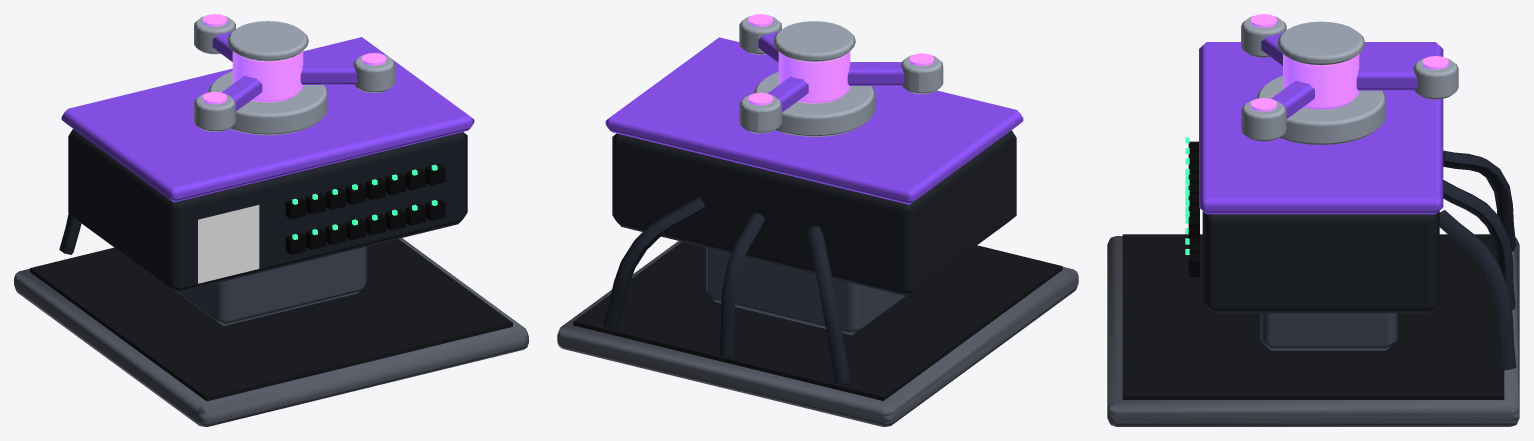
The model's file is alb.glb.
The picture shows the model from 3 angles, left to right: view 1: azimuth 30°, elevation 25°; view 2: azimuth 150°, elevation 25°; view 3: azimuth 270°, elevation 25°; orthographic projection. The views are drawn at different scales.
Parts seen in each view (by area): view 1: body.rubber, body.accent, body.bezel, body.concrete, body.steel, spin_hub.steel_light, body.vent, body.badge, body.steel_light, spin_hub.accent_glow, spin_hub.accent, body.led (+1 smaller); view 2: body.bezel, body.rubber, body.accent, body.concrete, body.steel, body.cable, spin_hub.steel_light, body.steel_light, spin_hub.accent_glow, spin_hub.accent; view 3: body.rubber, body.accent, body.bezel, body.concrete, body.cable, spin_hub.steel_light, body.steel, body.steel_light, spin_hub.accent_glow, spin_hub.accent, body.vent, body.led.
Part boxes in pixels (x1,y1,x2,y2): body.rubber: (30, 239, 512, 401); body.accent: (61, 37, 474, 202); body.bezel: (68, 129, 467, 292); body.concrete: (14, 238, 528, 426); body.steel: (178, 246, 367, 325); spin_hub.steel_light: (194, 15, 394, 131); body.vent: (285, 163, 445, 254); body.badge: (198, 205, 259, 283); body.steel_light: (208, 71, 327, 135); spin_hub.accent_glow: (202, 14, 386, 104); spin_hub.accent: (212, 31, 357, 110); body.led: (292, 164, 437, 239); body.bezel: (612, 130, 1016, 296); body.rubber: (573, 242, 1062, 400); body.accent: (605, 37, 1023, 204); body.concrete: (557, 241, 1078, 426); body.steel: (706, 247, 905, 335); body.cable: (603, 197, 850, 384); spin_hub.steel_light: (739, 15, 943, 133); body.steel_light: (754, 72, 875, 136); spin_hub.accent_glow: (748, 14, 934, 105); spin_hub.accent: (758, 31, 904, 112); body.rubber: (1122, 234, 1504, 399); body.accent: (1199, 42, 1443, 214); body.bezel: (1202, 211, 1439, 313); body.concrete: (1107, 236, 1519, 426); body.cable: (1439, 150, 1516, 370); spin_hub.steel_light: (1241, 16, 1458, 141); body.steel: (1260, 313, 1397, 350); body.steel_light: (1256, 76, 1385, 144); spin_hub.accent_glow: (1250, 14, 1448, 111); spin_hub.accent: (1261, 33, 1417, 118); body.vent: (1188, 141, 1199, 276); body.led: (1185, 137, 1189, 254).
Size of the model in its own units: 1.08 by 0.882 by 1.08.
